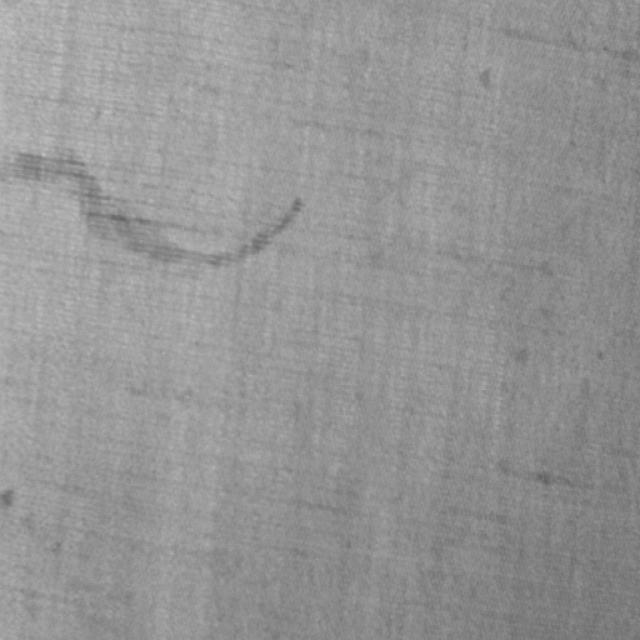oil spot: (0, 139, 303, 275)
